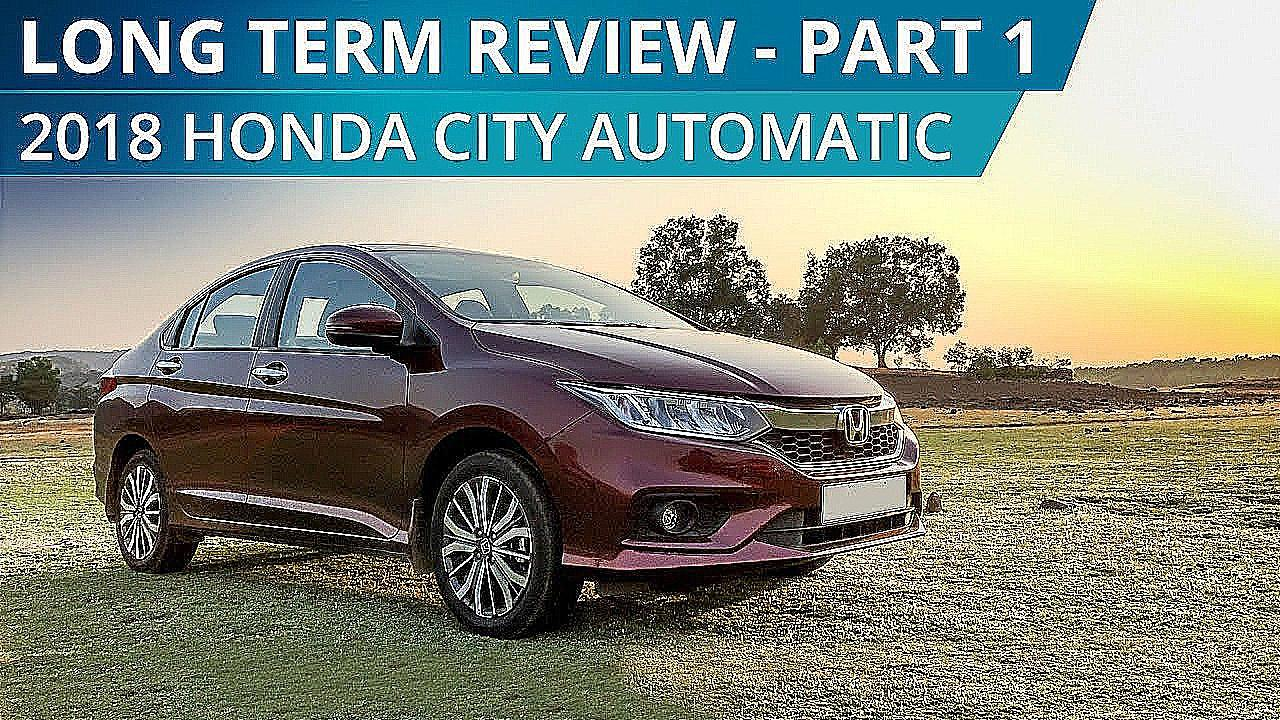Car hood: (468, 316, 908, 402)
Driver-s door - -F-R-: (250, 244, 412, 528)
Fender - -F-R-: (400, 281, 601, 589)
Fender - -R-R-: (97, 322, 168, 477)
Front bumper: (526, 406, 928, 576)
Headlight - -R-: (544, 366, 775, 455)
Passenger-s door - -R-R-: (146, 242, 283, 517)
Rear bumper: (83, 429, 124, 513)
Rear light - -R-: (84, 356, 137, 413)
Side bumper - -R-: (148, 484, 426, 586)
Side mirror - -R-: (320, 292, 417, 380)
